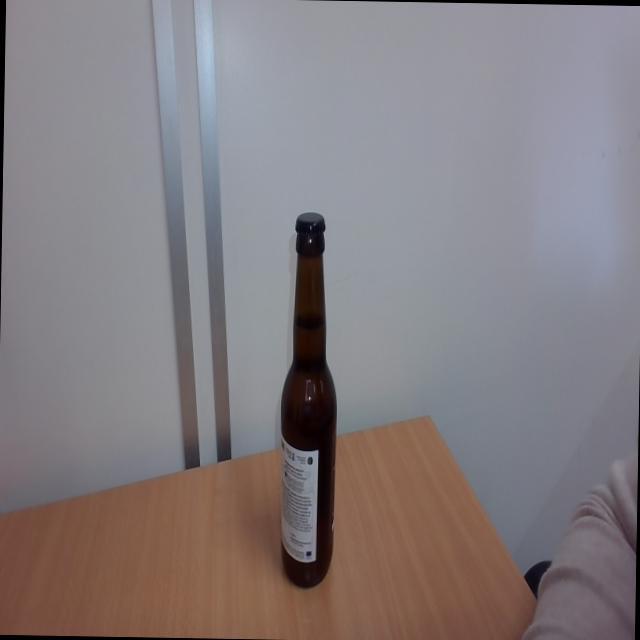Bottle: (277, 236, 340, 588)
Cap: (294, 210, 327, 237)
Label: (278, 438, 316, 566)
